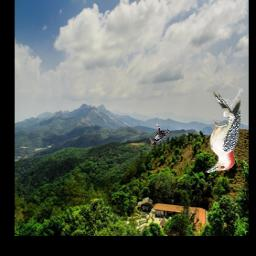Crow: (149, 124, 170, 147)
Woodpecker: (204, 91, 241, 173)
